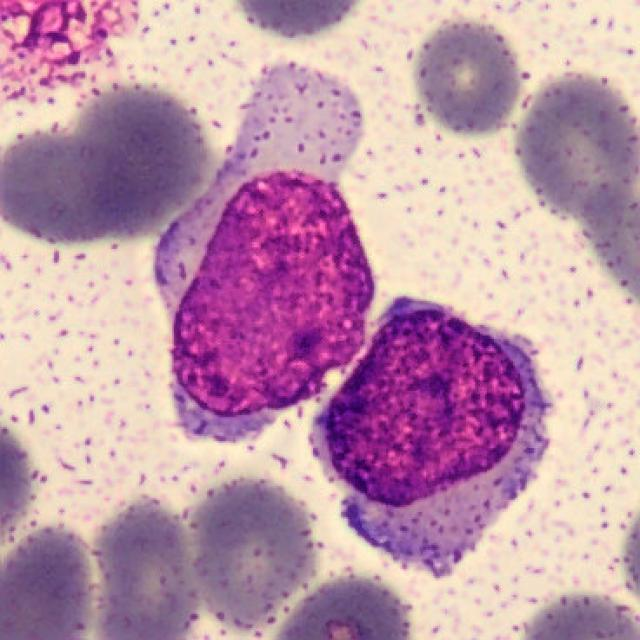Mieloblasto: (153, 67, 376, 443), (317, 298, 550, 576)
